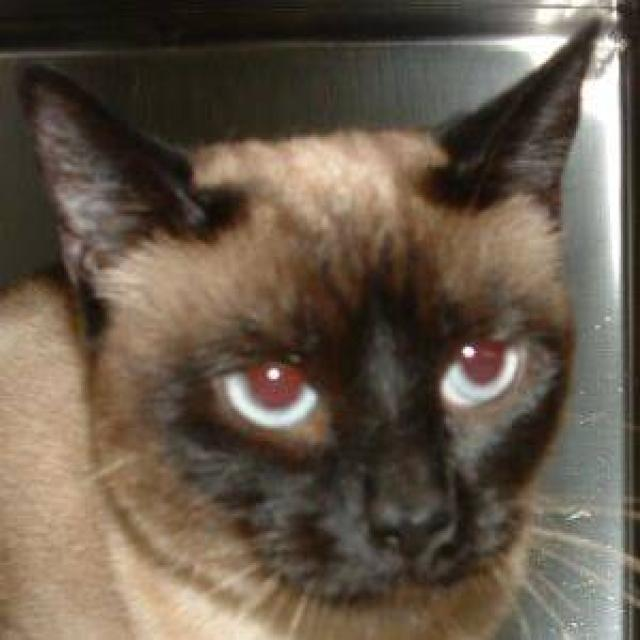cat: (0, 15, 636, 638)
